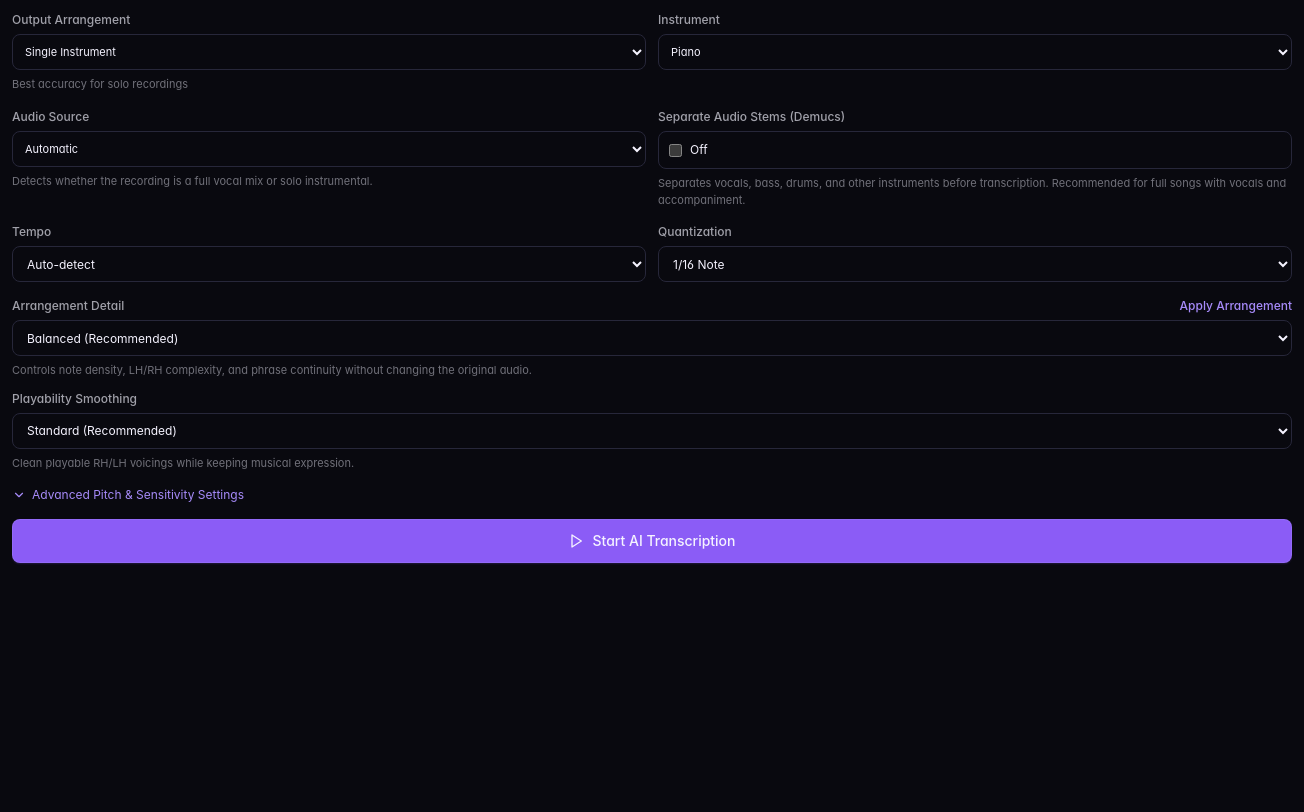
TranscriptionConfigPanel Arrangement Detail & Quantization › defaults to Balanced, exposes Simple/Balanced/Detailed, updates quantization predictably, and transmits payload
The image size is (1304, 812).
Later steps or results of the test are not shown.
Expected: the dropdown labelled "Quantization" shows "1/16 Note", [658,246,1292,282]
# Selecting Simple automatically switches Quantization to 1/8 when not manually set
Select "Simple / Syllabic" in the dropdown labelled "Arrangement Detail": (652,338) [12,320,1292,356]
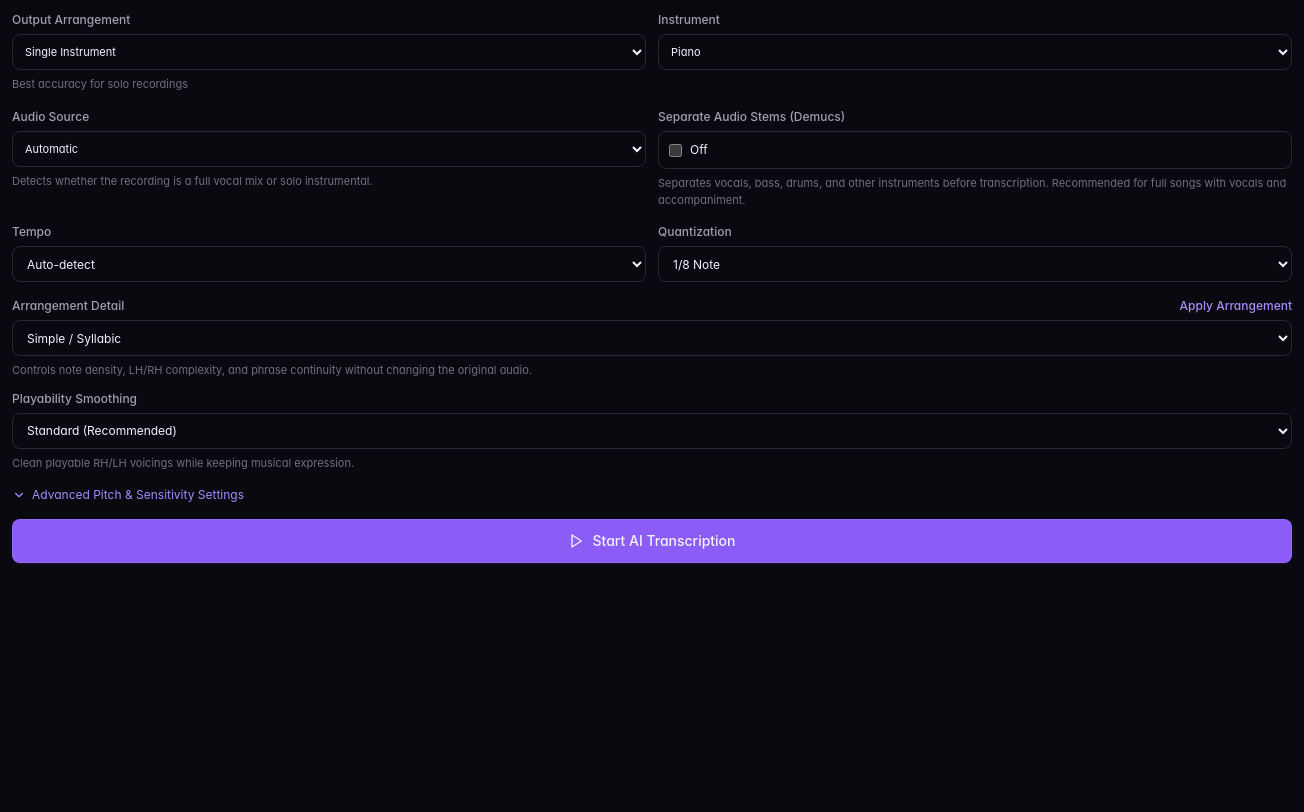
Expected: the dropdown labelled "Quantization" shows "1/8 Note", [658,246,1292,282]
